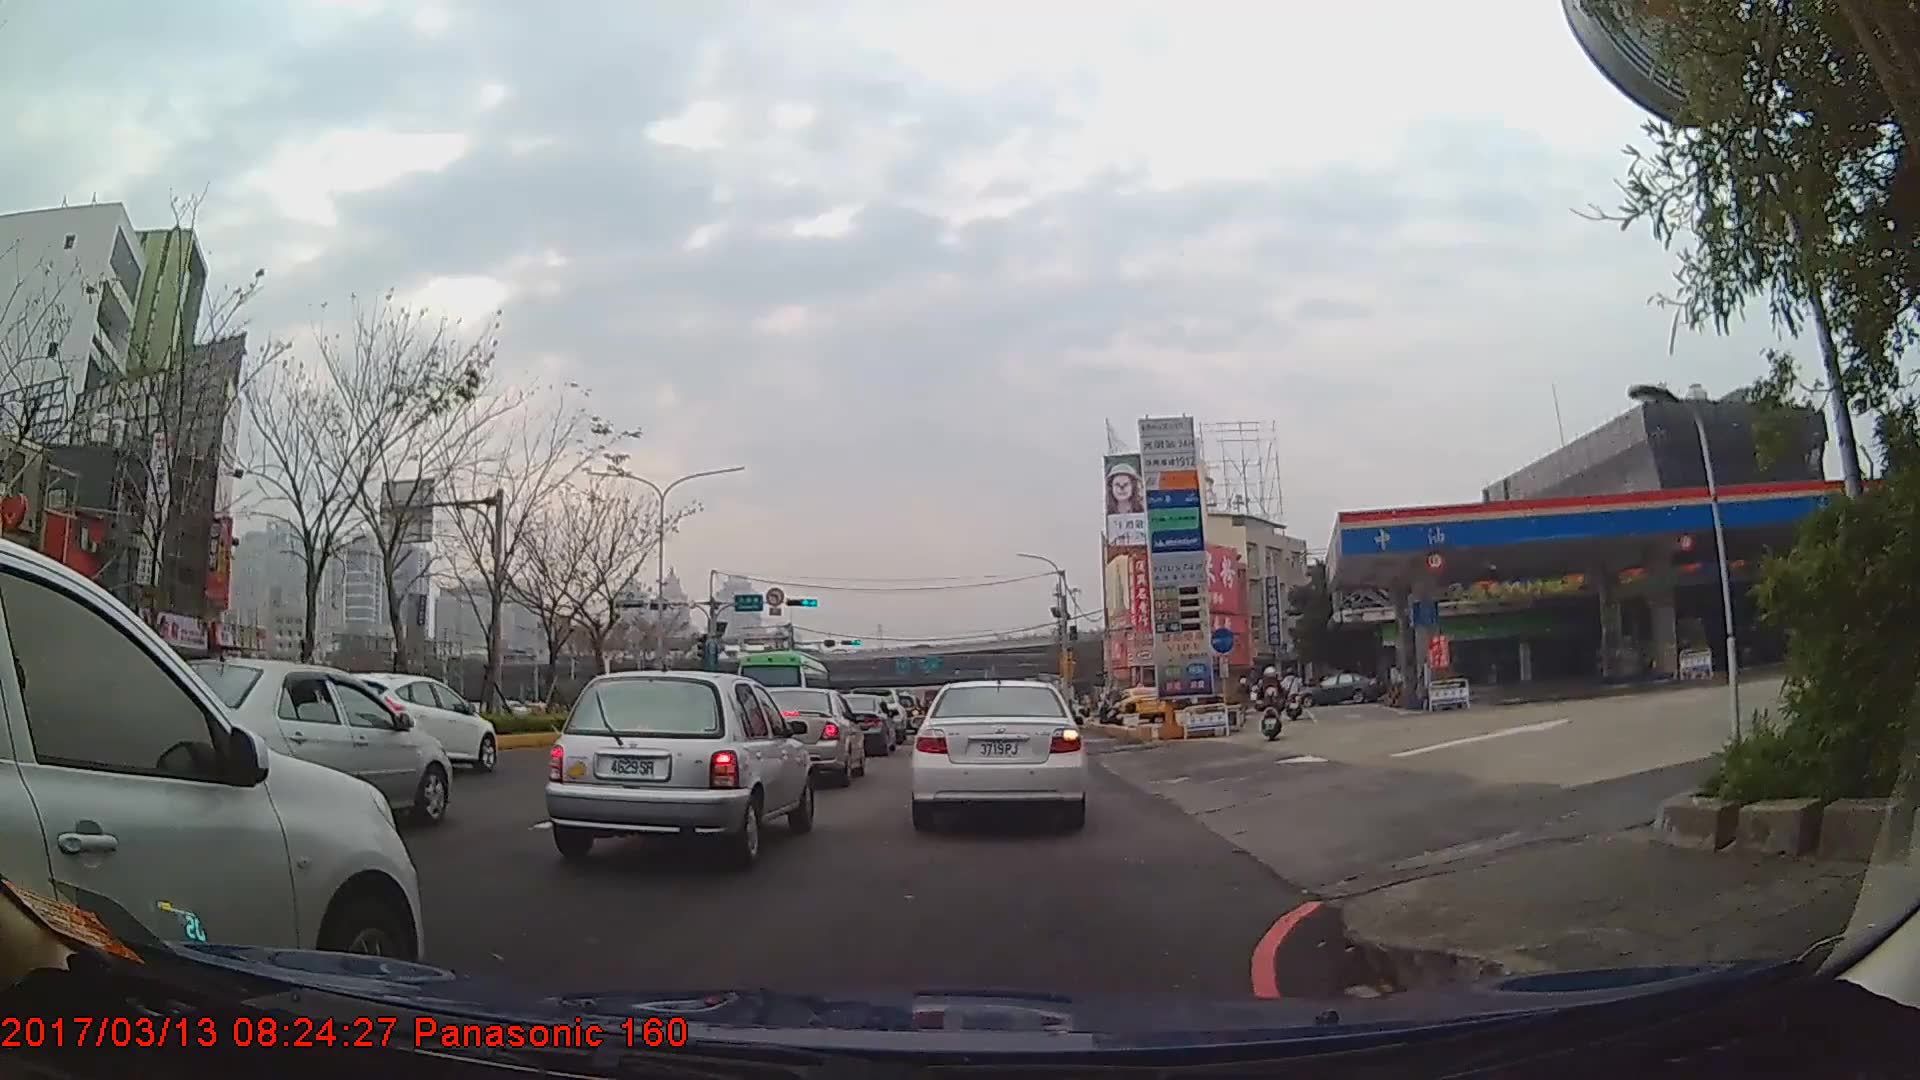rider: (1259, 668, 1287, 742), (1283, 669, 1306, 720)
vehicle: (0, 539, 426, 1019), (130, 658, 447, 828), (545, 669, 812, 866), (912, 675, 1086, 831), (309, 669, 496, 772), (740, 685, 866, 789), (732, 648, 830, 730), (819, 692, 897, 757), (1294, 670, 1383, 705), (1114, 686, 1168, 723)
